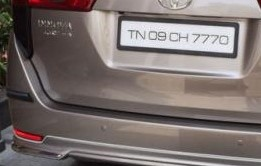TN09CH7770: (120, 19, 235, 54)
